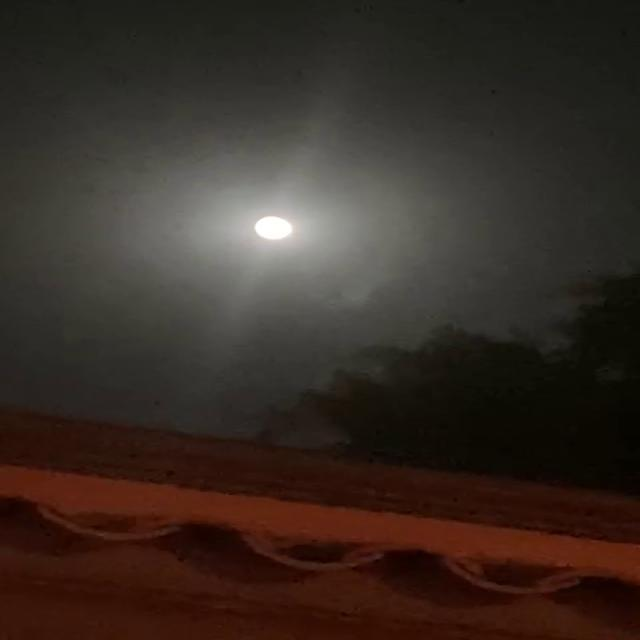moon: (258, 208, 317, 248)
